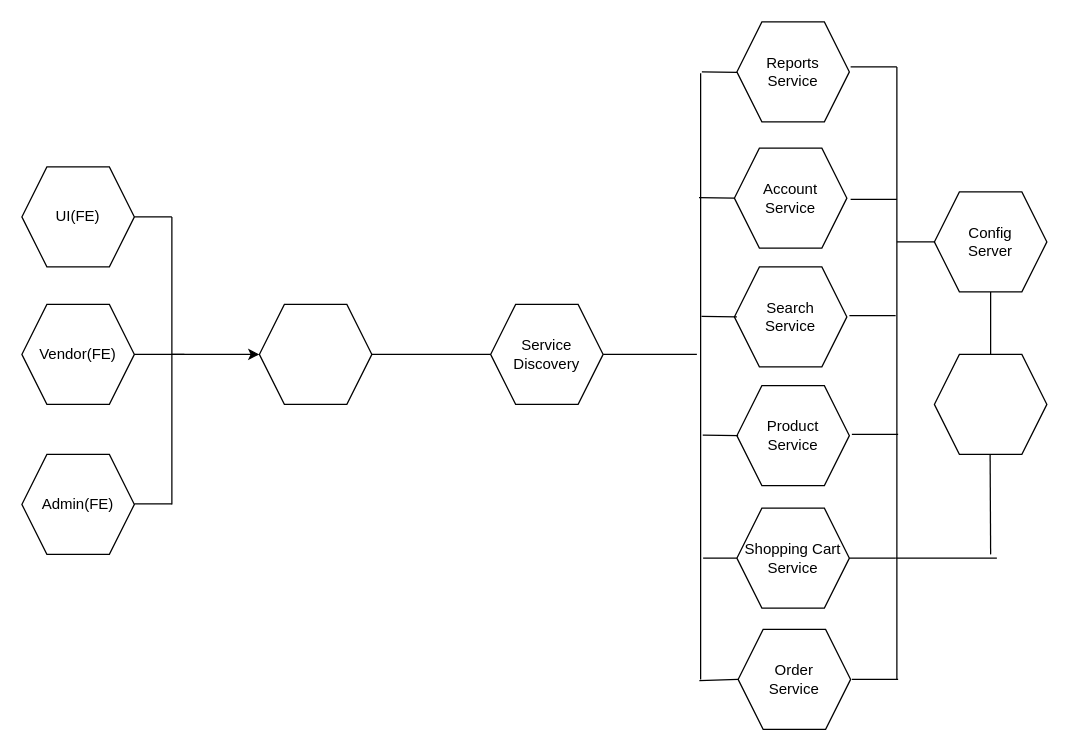
This 1069x751 diagram has some shape labels left out. The shapes that lost their labels are listed below. From the top down, each one's centre as x and y in pixels, then its label:
[315,353]: Gateway Service
[990,403]: Email Service
